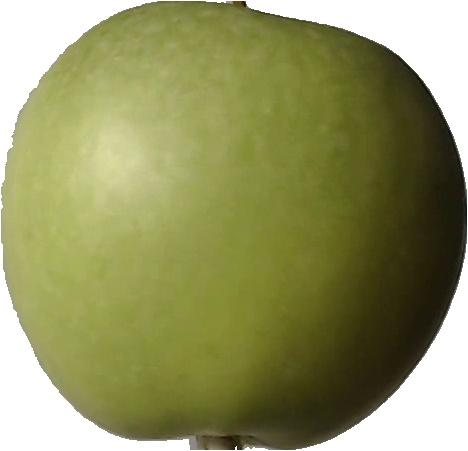Apple Unripe: (0, 0, 468, 436)
